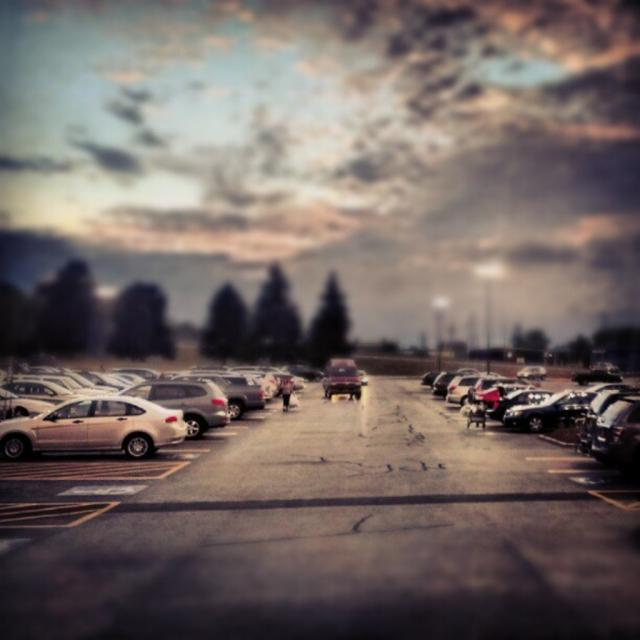car: (570, 365, 624, 386), (517, 361, 546, 379)
